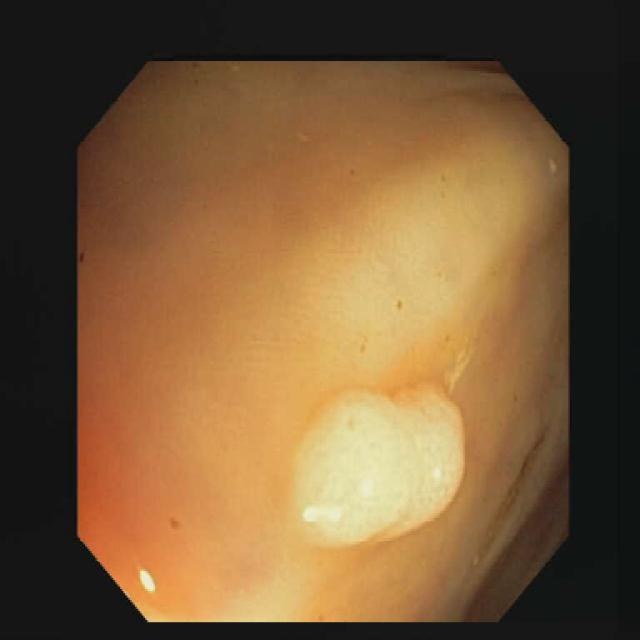tumor: (288, 362, 463, 544)
